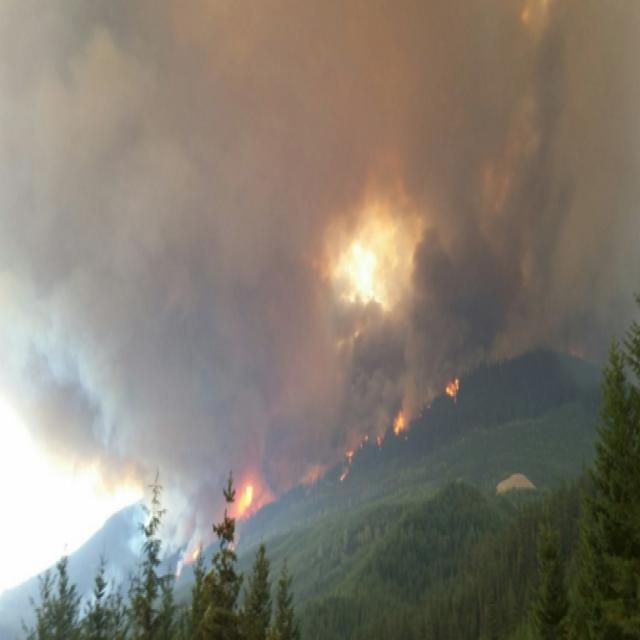Fire: (322, 224, 404, 322), (218, 472, 256, 524), (440, 366, 463, 409), (389, 404, 414, 436)
Smoke: (0, 0, 562, 492)
